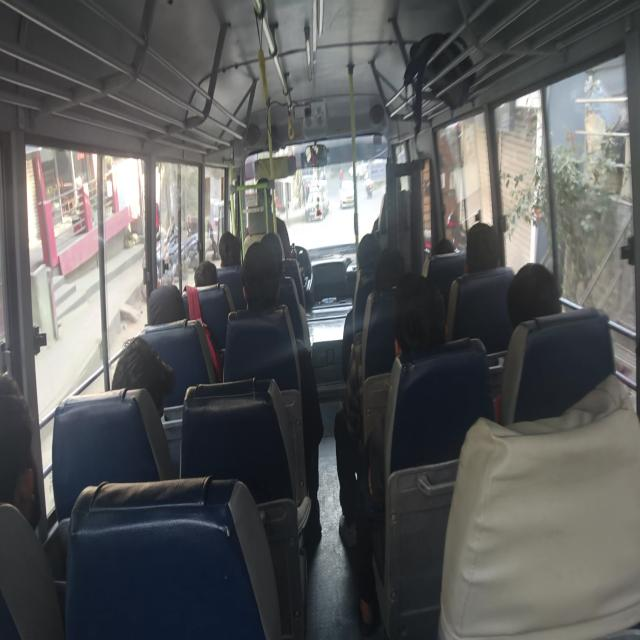person: (0, 384, 60, 582), (516, 262, 580, 377), (393, 270, 456, 376), (129, 322, 177, 432), (239, 244, 275, 319), (377, 235, 407, 322), (462, 232, 500, 296), (145, 280, 185, 340), (358, 232, 398, 281), (431, 218, 460, 275), (254, 216, 286, 255), (192, 266, 218, 300), (218, 228, 241, 266)
